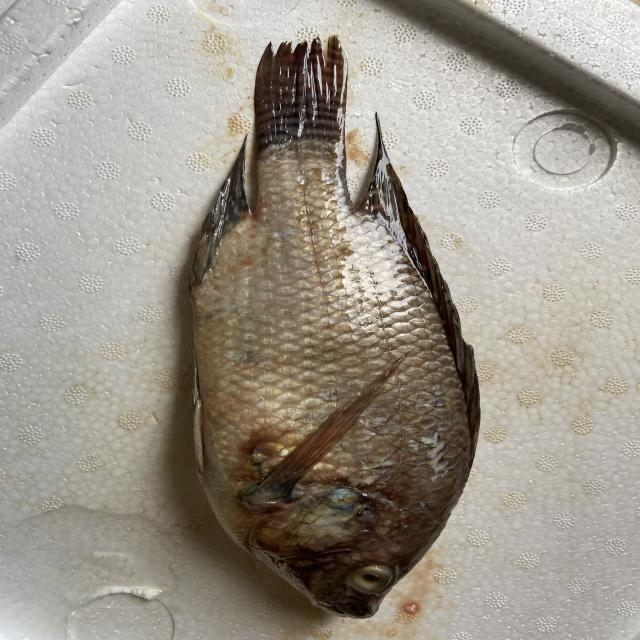Eye -1-: (348, 563, 394, 595)
Skin -1-: (191, 152, 473, 552)
Tilapia-NF-0-5-: (94, 31, 518, 640)
